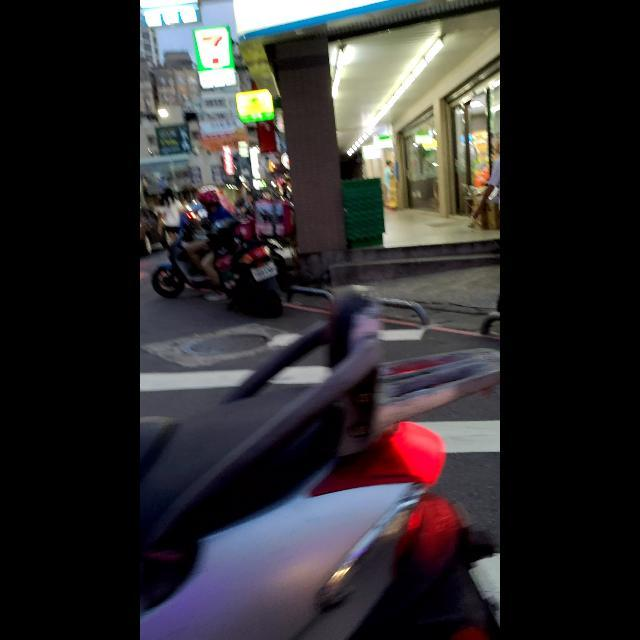sidewalk: (140, 328, 500, 640)
